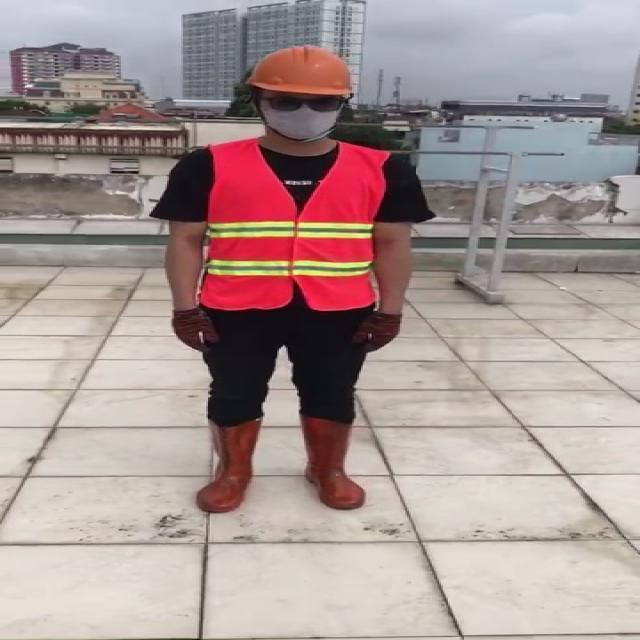gloves: (349, 310, 402, 358), (170, 305, 216, 353)
goggles: (259, 95, 349, 115)
helmet: (247, 43, 359, 97)
safety_vest: (199, 140, 384, 310)
